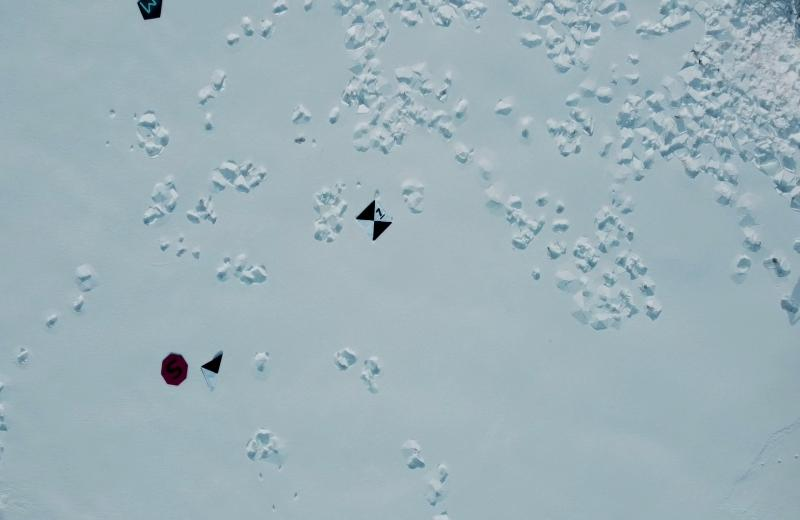Octagon: (158, 349, 193, 389)
Pentagon: (134, 0, 166, 24)
